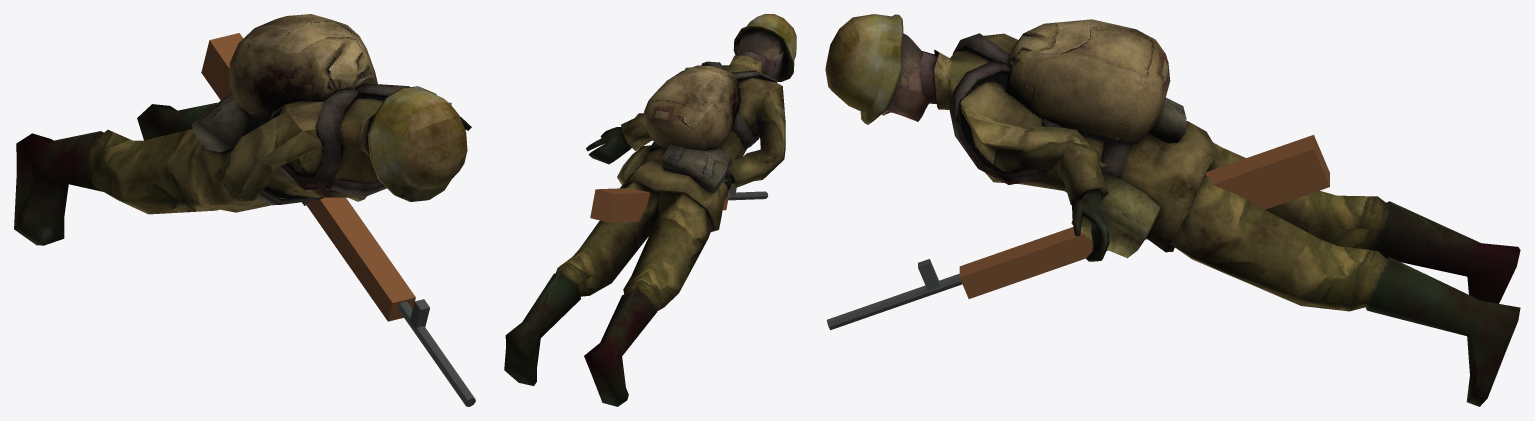
File: soviet_ww2_soldier_death_02.glb
The picture shows the model from 3 angles, left to right: view 1: azimuth 30°, elevation 25°; view 2: azimuth 150°, elevation 25°; view 3: azimuth 270°, elevation 25°; orthographic projection. The views are drawn at different scales.
Parts seen in each view (by area): view 1: final_Static, SovietRifle_Generated; view 2: final_Static, SovietRifle_Generated; view 3: final_Static, SovietRifle_Generated.
Part boxes in pixels (x1=…): final_Static: x1=14, y1=14, x2=471, y2=245; SovietRifle_Generated: x1=201, y1=33, x2=475, y2=406; final_Static: x1=504, y1=14, x2=796, y2=406; SovietRifle_Generated: x1=590, y1=185, x2=767, y2=222; final_Static: x1=825, y1=14, x2=1520, y2=406; SovietRifle_Generated: x1=826, y1=135, x2=1329, y2=330.
Bounding box in the file's own units: 0.7401 × 0.9094 × 1.63.
Materials: 3 (1 with a texture image).
